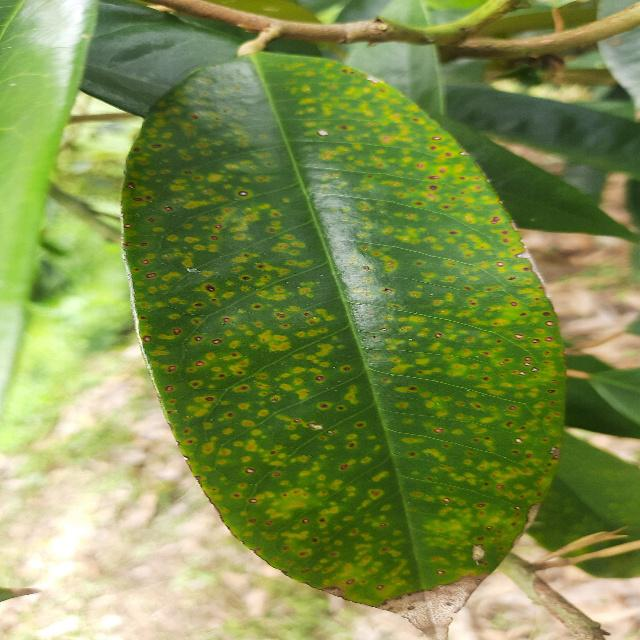Leaf Spot: (119, 43, 572, 639)
